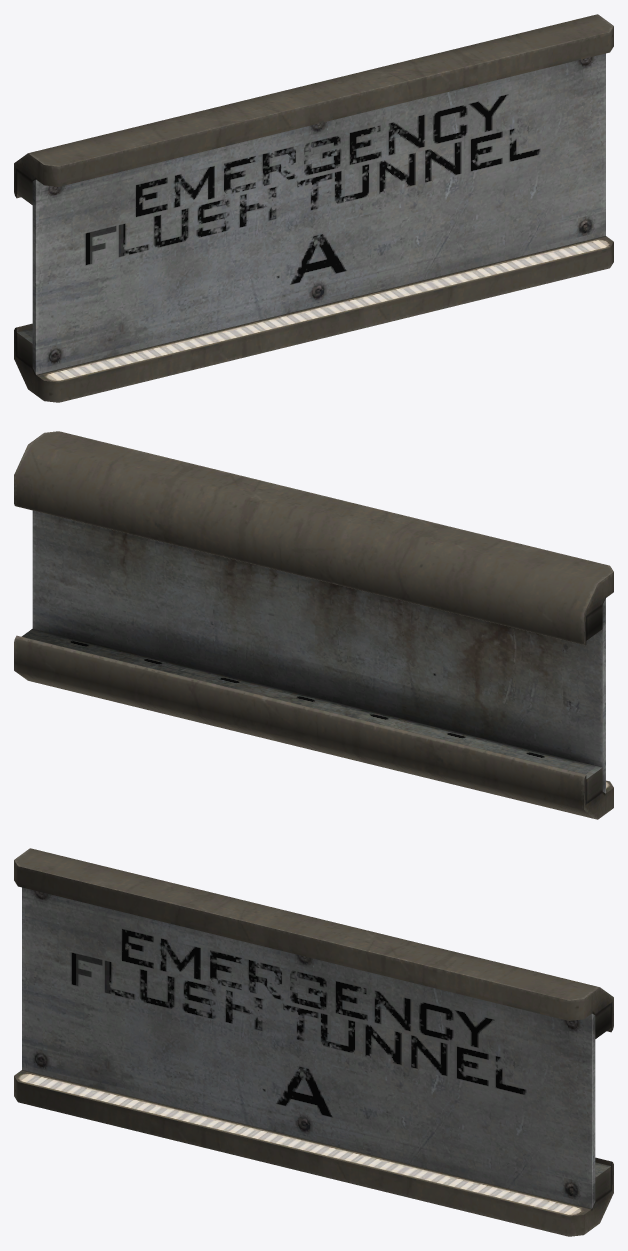
The model's file is sign_emergency_flush_tunnel_A.dae.
The picture shows the model from 3 angles, top to bottom: view 1: azimuth 30°, elevation 25°; view 2: azimuth 150°, elevation 25°; view 3: azimuth 330°, elevation 25°; orthographic projection.
Visible parts, largest first — view 1: pCube1; view 2: pCube1; view 3: pCube1.
Boxes of the visible parts, box(x1,y1,x2,y2) form: pCube1: box(14, 14, 613, 402); pCube1: box(14, 431, 613, 819); pCube1: box(14, 848, 613, 1236).
Bounding box in the file's own units: 1 × 0.3959 × 0.1078.
